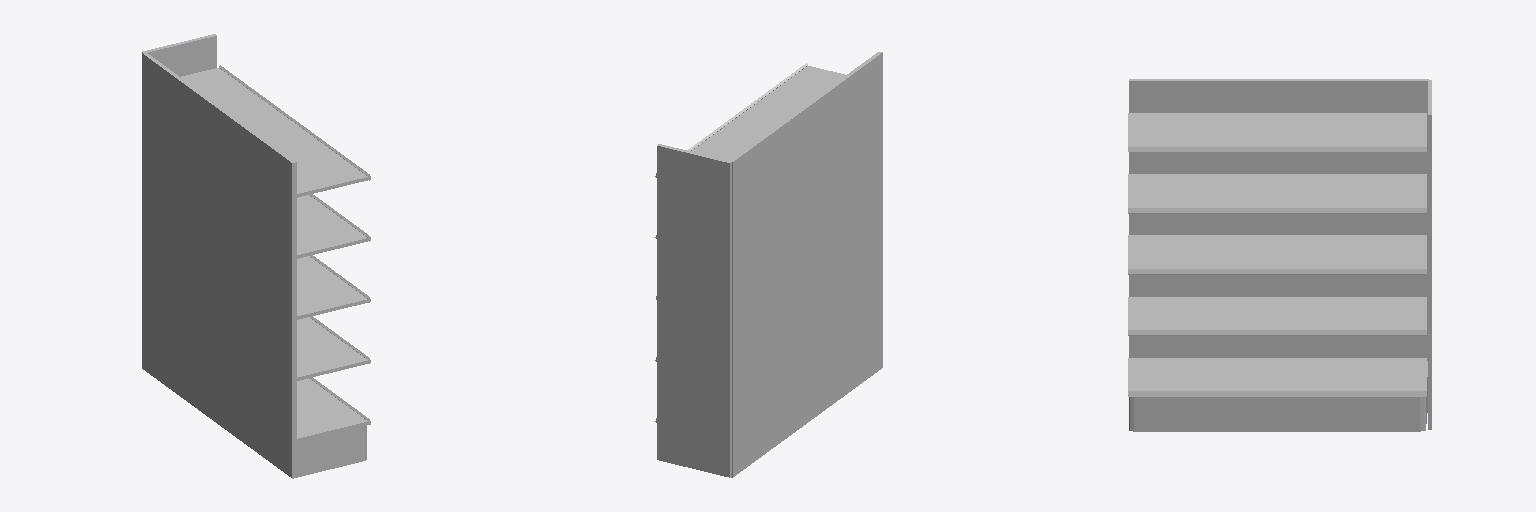
The model's file is Shelf_end_5.obj.
3 renders of one model, left to right at view 1: azimuth 30°, elevation 25°; view 2: azimuth 150°, elevation 25°; view 3: azimuth 270°, elevation 25°, orthographic.
Parts seen in each view (by area): view 1: Shelf_end_5_Cube.013; view 2: Shelf_end_5_Cube.013; view 3: Shelf_end_5_Cube.013.
Boxes of the visible parts, x1,y1,x2,y2 form: Shelf_end_5_Cube.013: [142, 34, 370, 478]; Shelf_end_5_Cube.013: [655, 52, 882, 477]; Shelf_end_5_Cube.013: [1128, 79, 1431, 431].
Bounding box in the file's own units: 1.04 × 4 × 3.51.